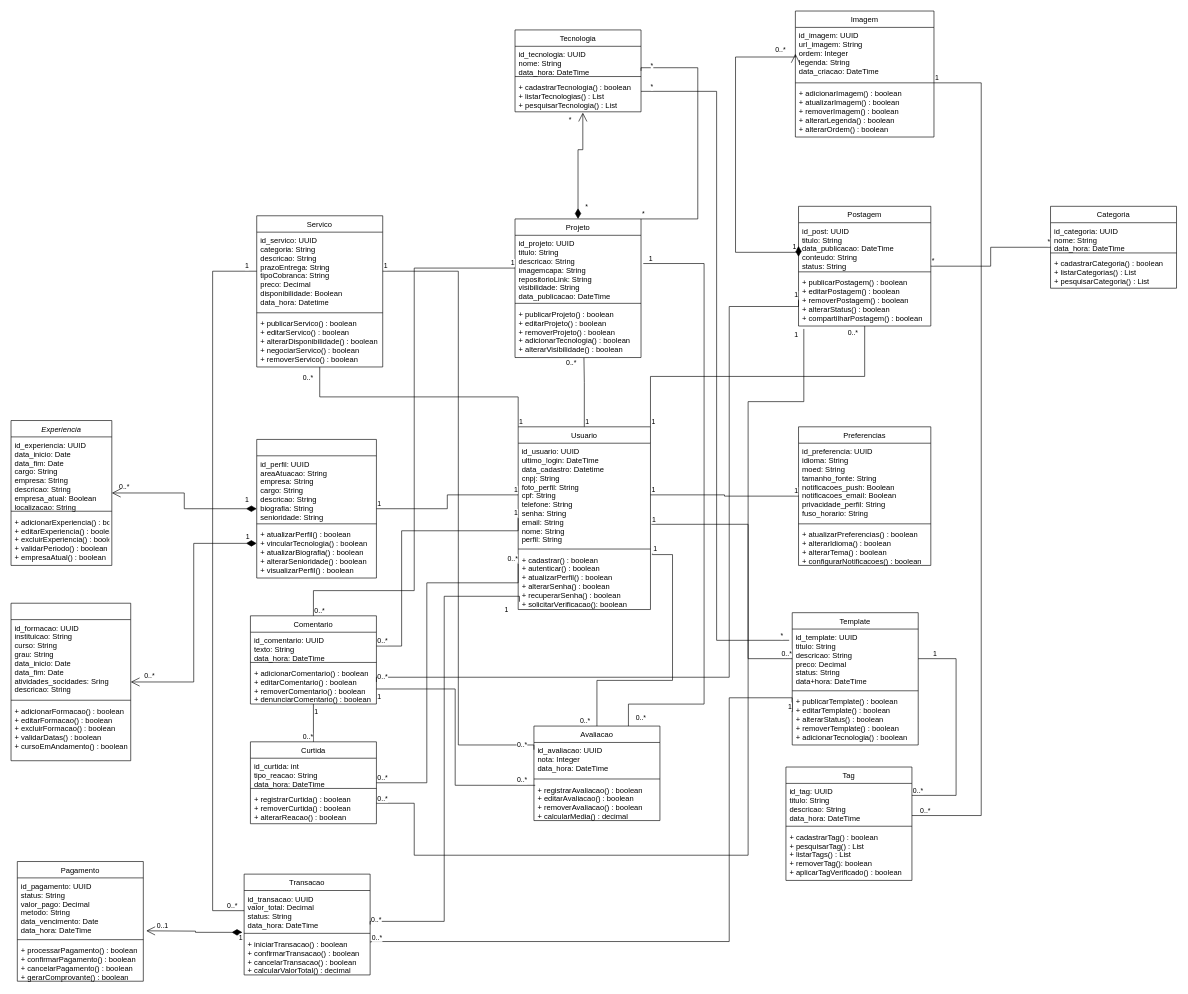
Some shapes in this 1188 by 994 pixel diagram are drawn without their labels. The shapes that lost their labels are listed below. From the top down, each one's box as (x1, y1, x2, y2) in pixels, then its label:
(256, 439, 376, 578): Perfil_Profissional
(10, 603, 131, 761): Formacao_Academica
